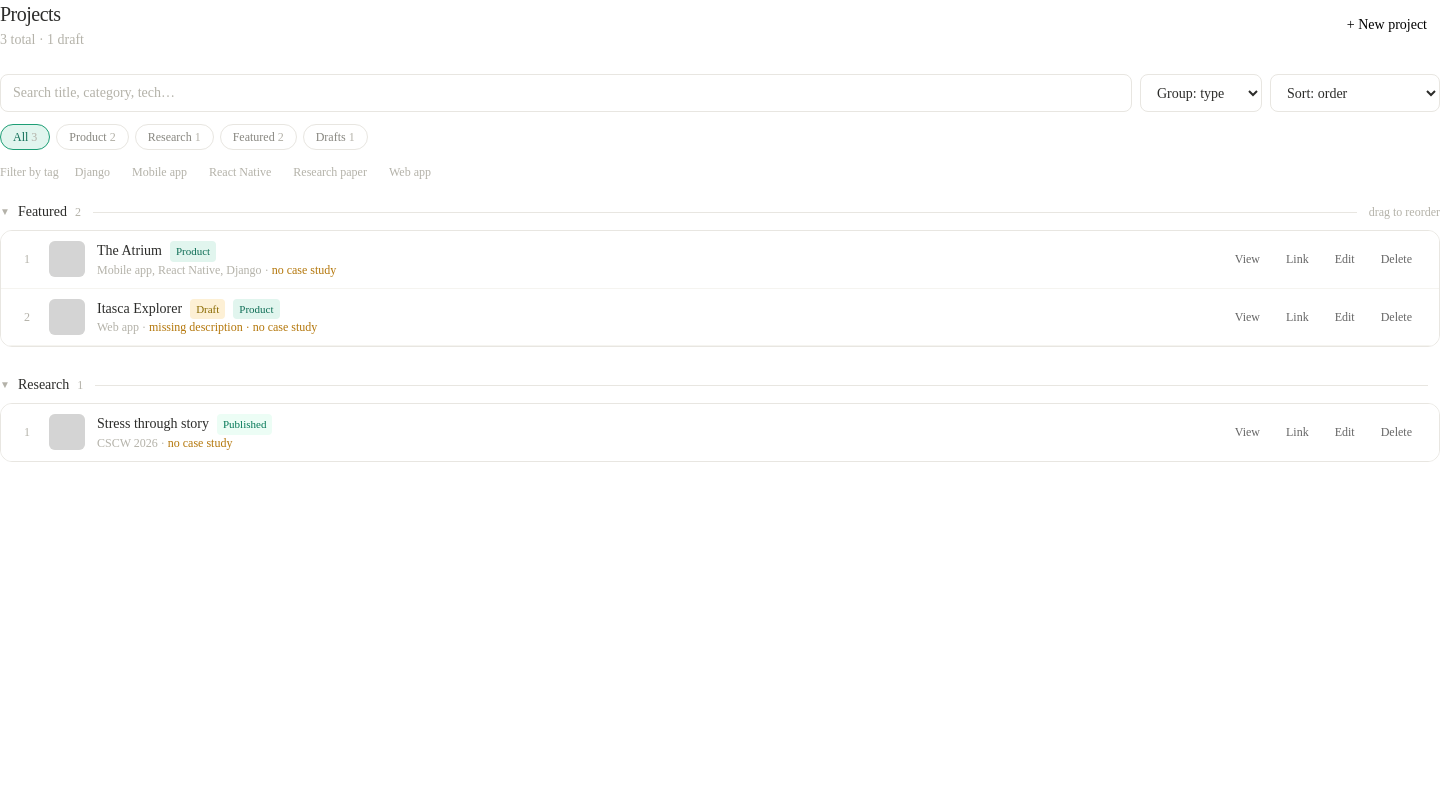
it: ProjectsTab › opens the form with the tags already in use as suggestions
The width and height of the screenshot is (1440, 810).
Check: the text "The Atrium" is shown, box x1=97 y1=241 x2=162 y2=261
Click the button "+ New project" at coordinates (1387, 25), box x1=1334 y1=9 x2=1439 y2=41
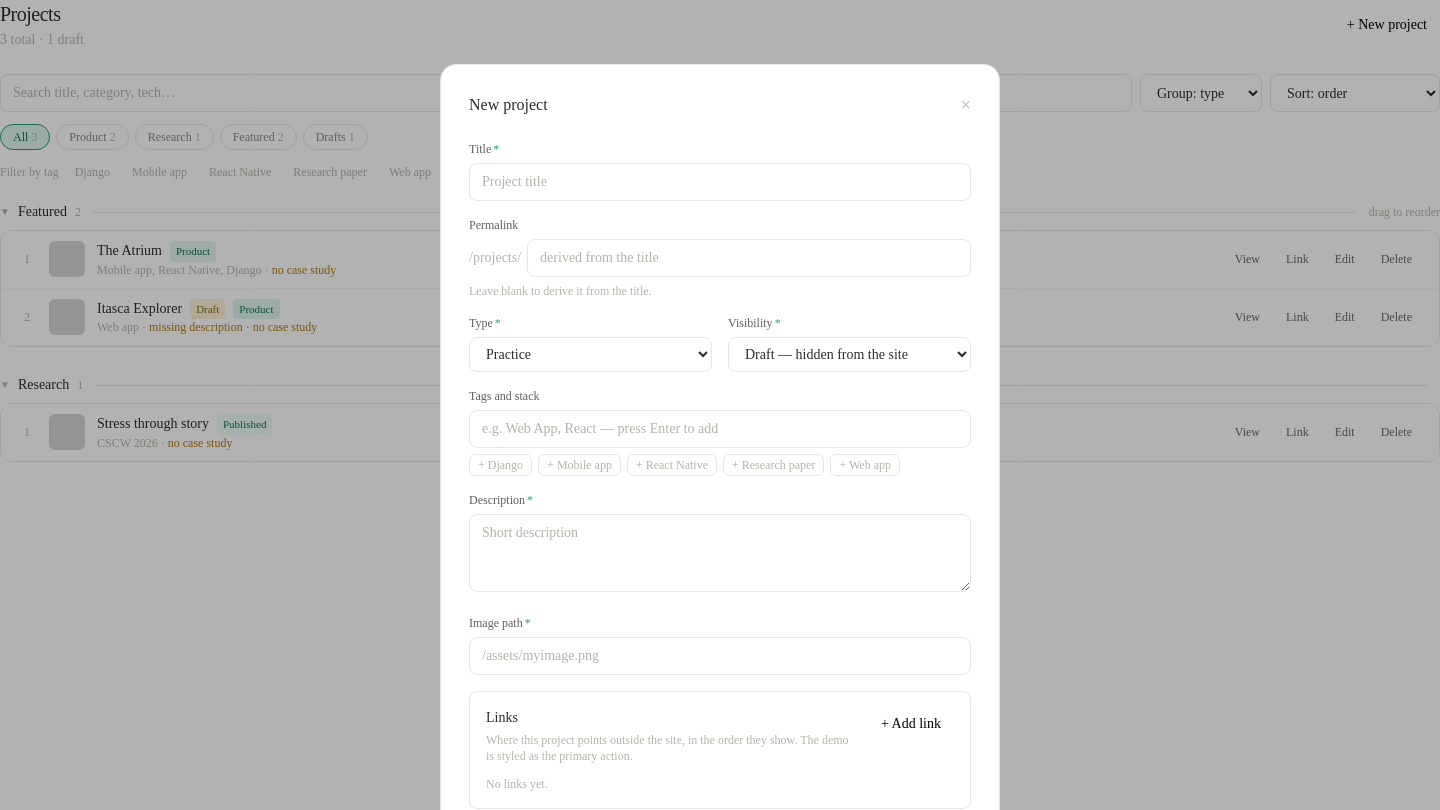
Check: the heading "New project" is shown, box x1=469 y1=93 x2=548 y2=117
Check: the text "Tags and stack" is shown, box x1=469 y1=389 x2=540 y2=403
Check: the button "+ Mobile app" is shown, box x1=538 y1=454 x2=621 y2=476
